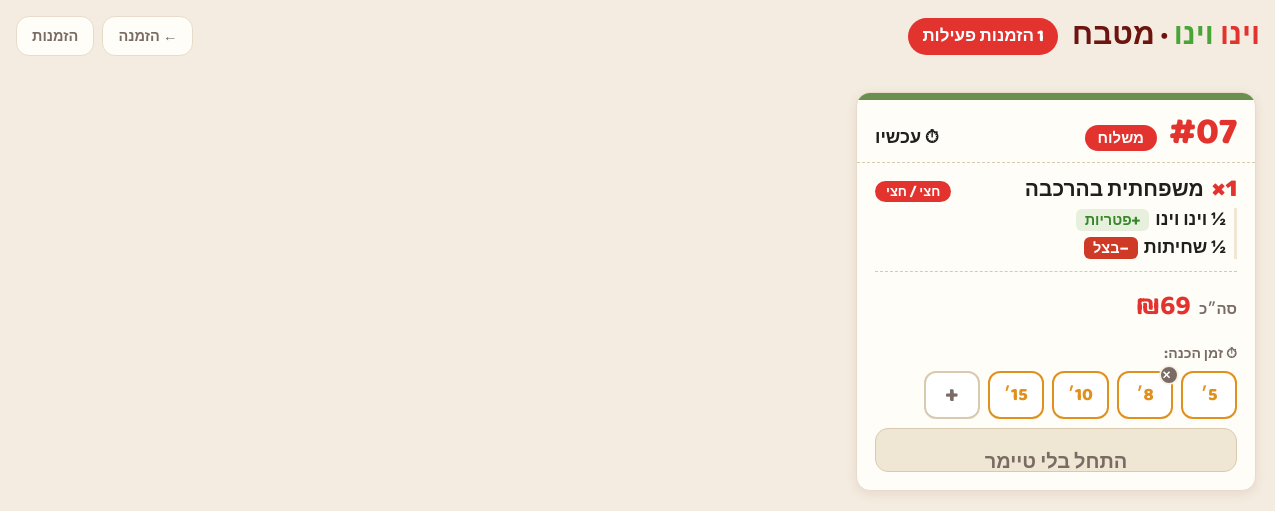
it: kitchen prep timers › lets you remove a saved custom preset (but not a default)
The image size is (1275, 511).
Expected: the button "8׳" is shown, [1117,371,1173,419]
What coordinates should you click on to do the following:
click the button named "מחק 8 דקות"
I would click on:
 (1169, 375)
Its box is [1159,365,1179,385].
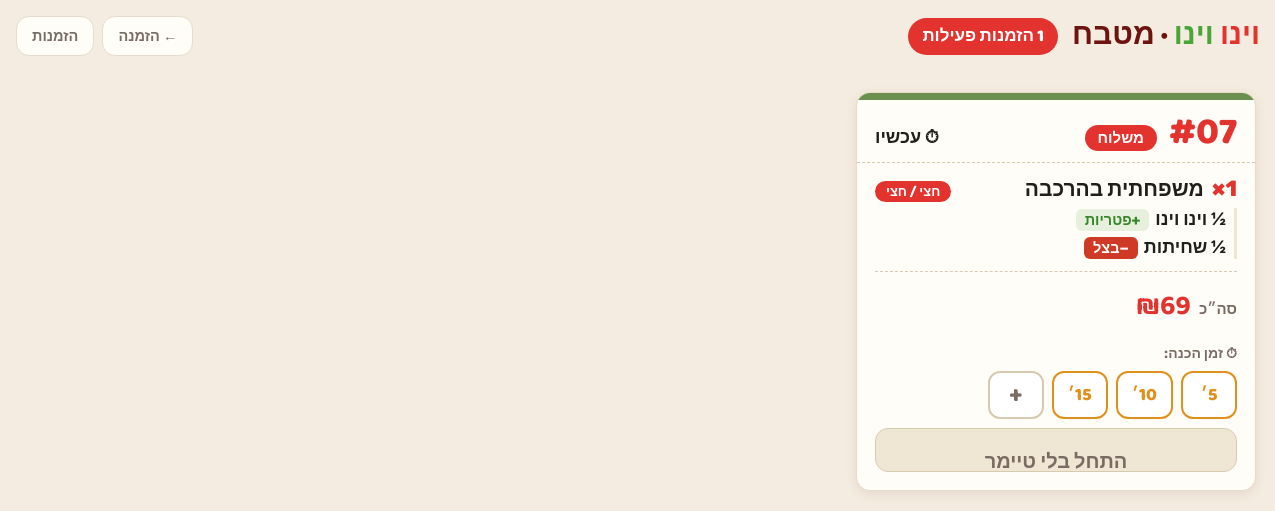
Expected: the button "8׳" is gone
